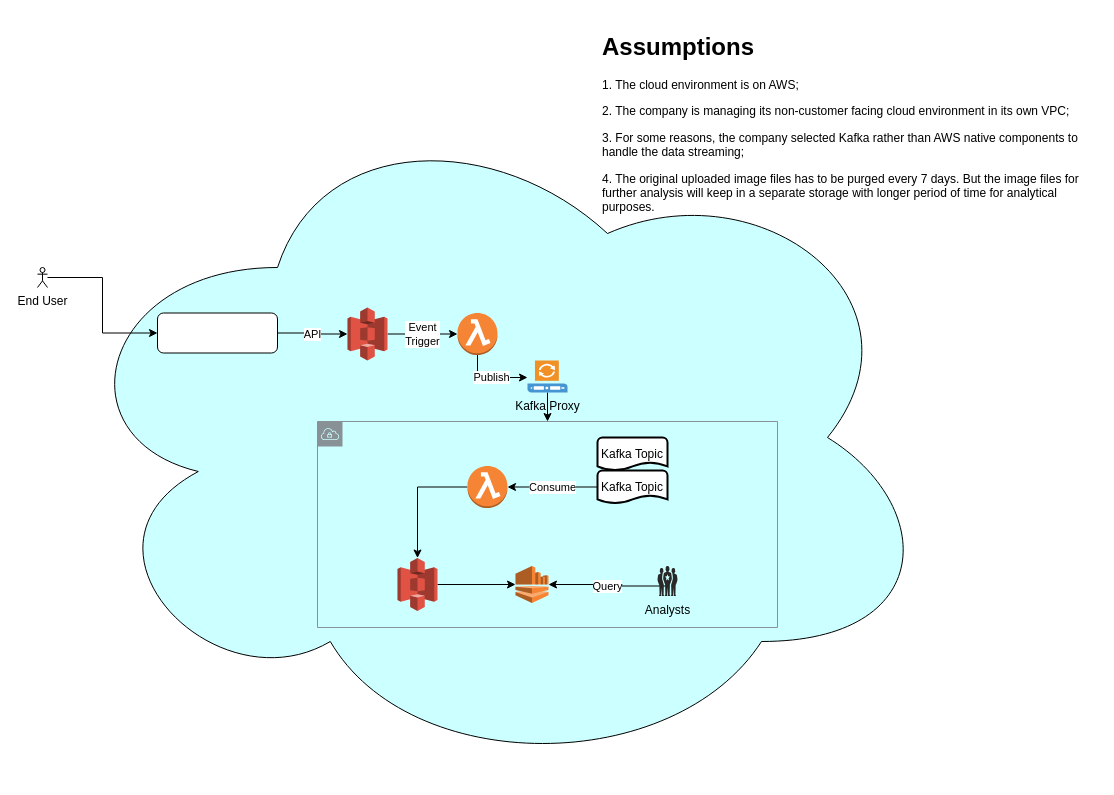
Image size: 1114x795. Some labels were removed from this diagram. Each missing label, with the box of its shape:
VPC: (316, 420, 778, 628)
Web Application: (156, 312, 278, 353)
